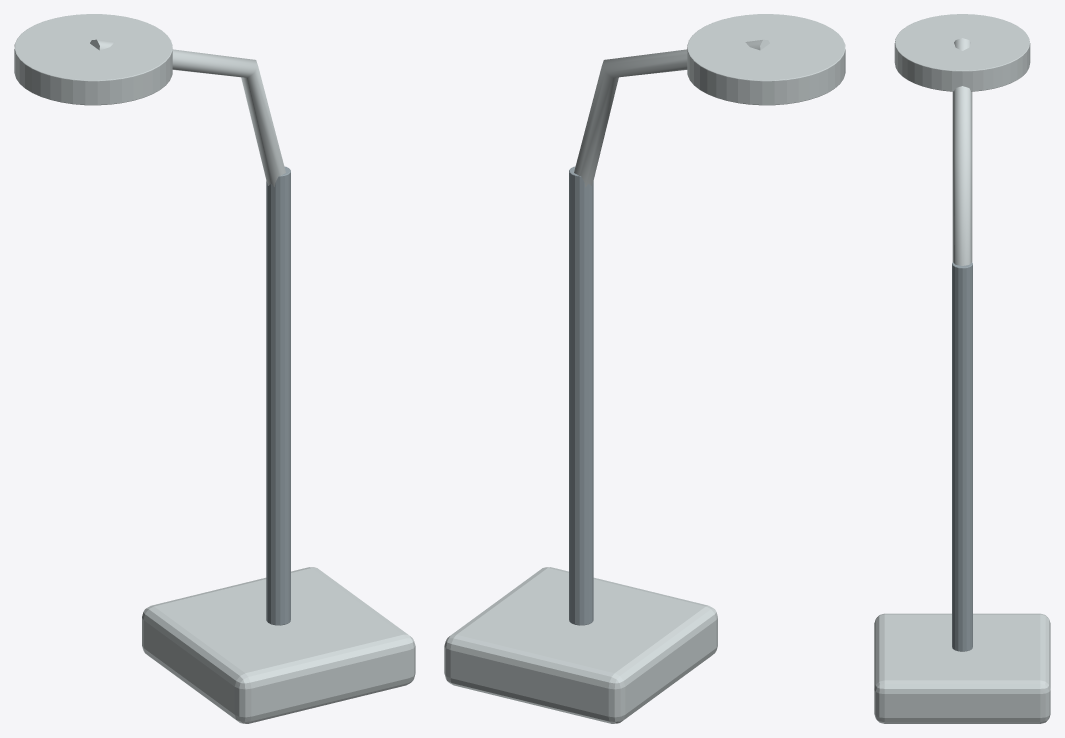
File: RD_ExaminationLight.fbx
3 views of the same model, side by side, from view 1: azimuth 30°, elevation 25°; view 2: azimuth 150°, elevation 25°; view 3: azimuth 270°, elevation 25° (orthographic). The views are drawn at different scales.
Parts seen in each view (by area): view 1: RD_ExaminationLight; view 2: RD_ExaminationLight; view 3: RD_ExaminationLight.
Part boxes in pixels (x1=…): RD_ExaminationLight: x1=14, y1=14, x2=415, y2=723; RD_ExaminationLight: x1=444, y1=14, x2=845, y2=723; RD_ExaminationLight: x1=874, y1=14, x2=1050, y2=723.
Size of the model in its own units: 115 by 216 by 60.
